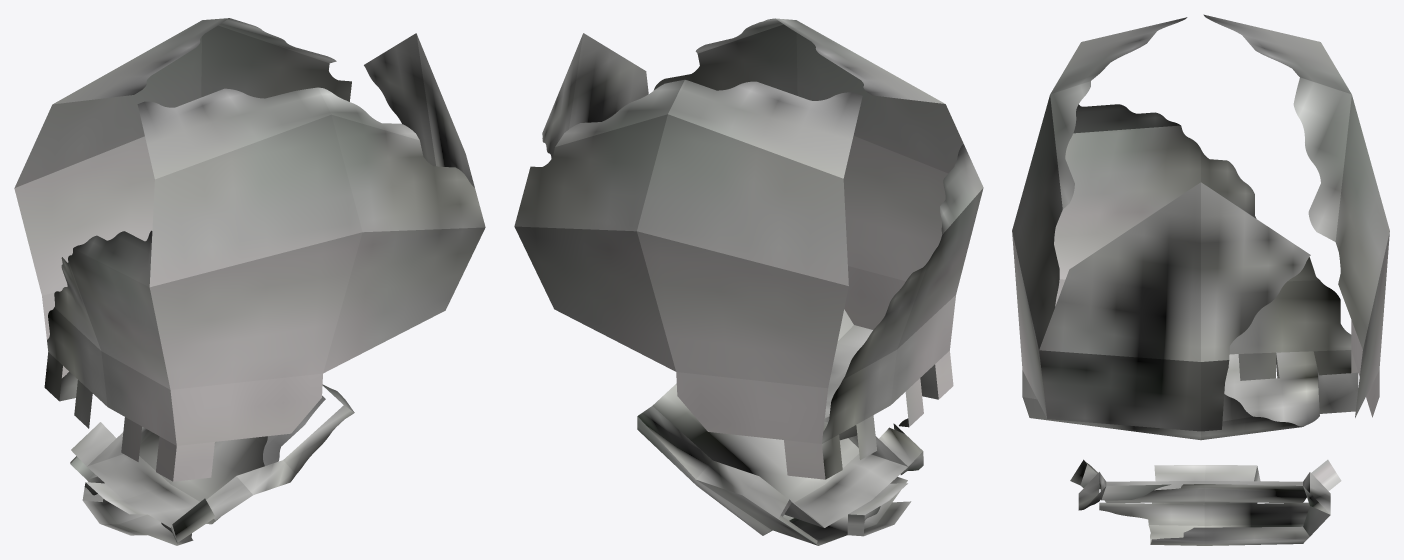
Rendered from skull.fbx.
3 views of the same model, side by side, from view 1: azimuth 30°, elevation 25°; view 2: azimuth 150°, elevation 25°; view 3: azimuth 270°, elevation 25° (orthographic). The views are drawn at different scales.
Parts seen in each view (by area): view 1: Cube, Cube.001; view 2: Cube, Cube.001; view 3: Cube, Cube.001.
Boxes of the visible parts, box(x1,y1,x2,y2) form: Cube: box(14, 18, 485, 481); Cube.001: box(70, 384, 354, 545); Cube: box(514, 18, 983, 479); Cube.001: box(637, 383, 923, 545); Cube: box(1012, 14, 1389, 440); Cube.001: box(1070, 459, 1341, 545).
Size of the model in its own units: 141 by 170 by 105.
